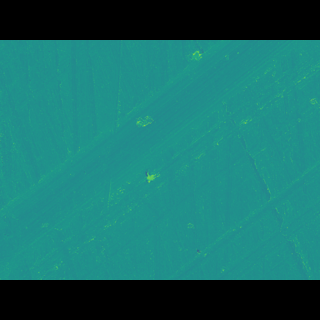Loch: (0, 69, 303, 248), (175, 160, 319, 251)
